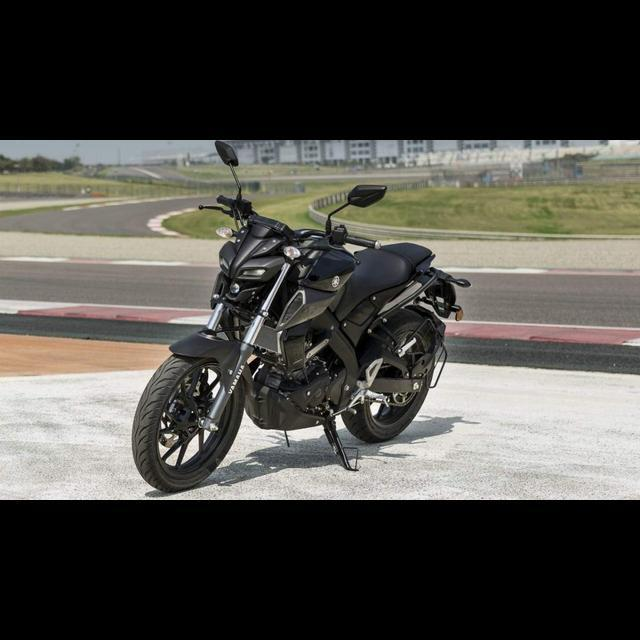motorcycle: (125, 135, 476, 499)
